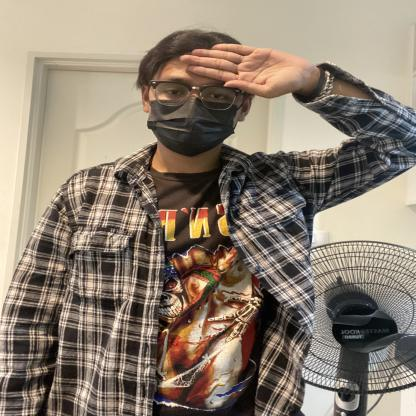Sick: (87, 13, 348, 136)
